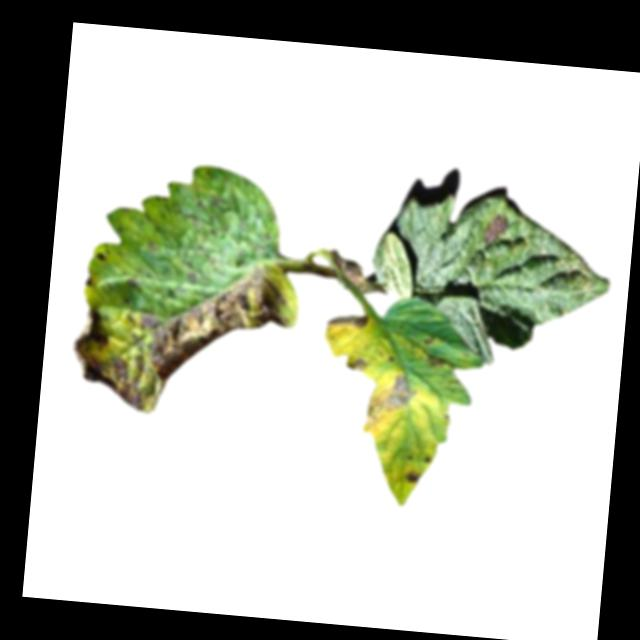Early_blight: (68, 247, 299, 426), (363, 370, 417, 435), (480, 212, 511, 246), (328, 310, 370, 329), (342, 353, 366, 371), (426, 354, 447, 368), (404, 466, 420, 484)
